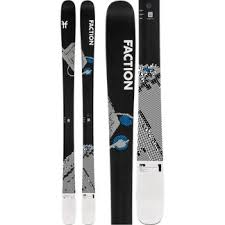skis: (104, 1, 165, 225), (60, 1, 97, 225)
